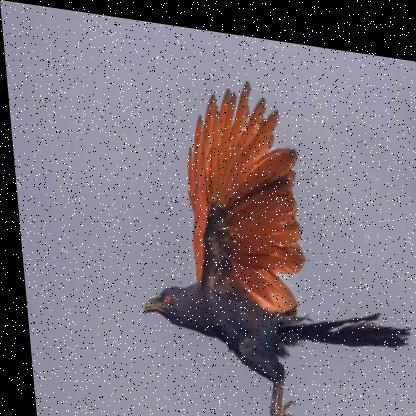Burung: (119, 58, 415, 415)
